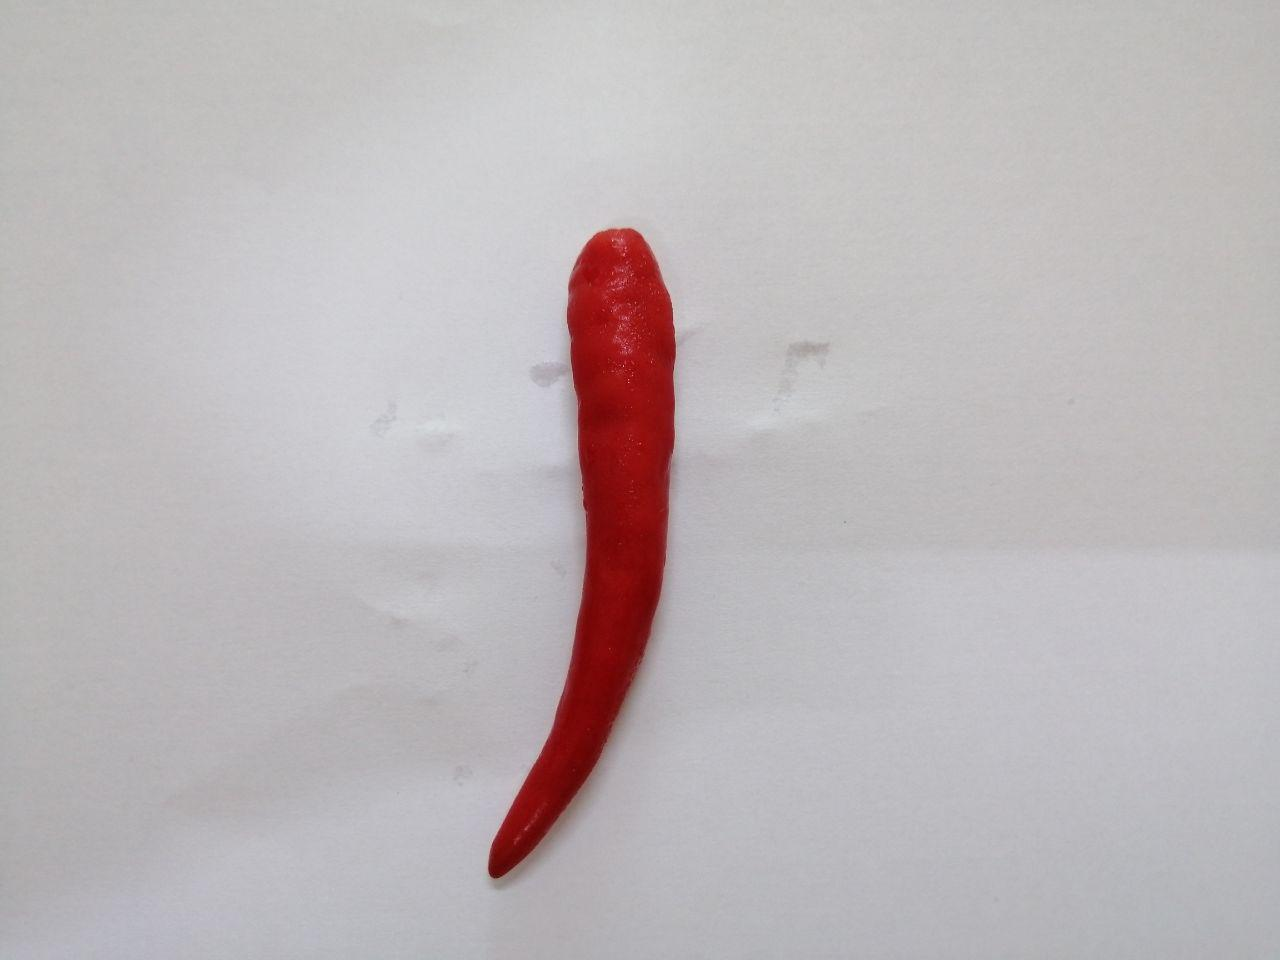lada merah: (468, 217, 693, 897)
